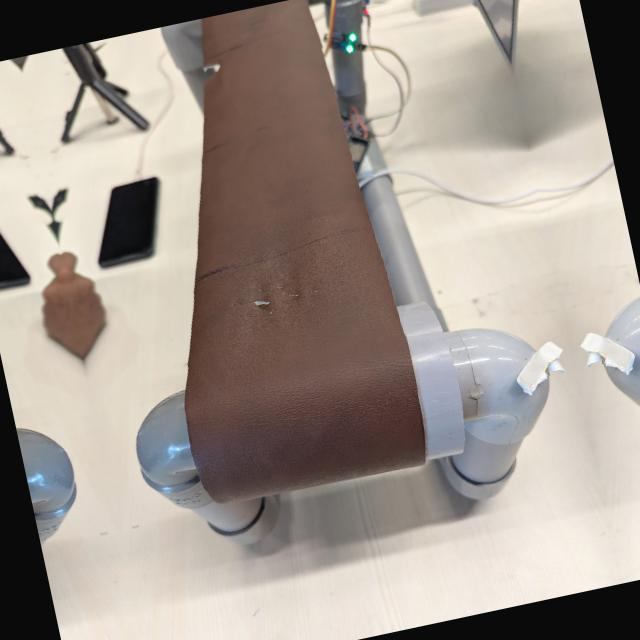belt_crack: (209, 262, 328, 345)
belt_tear: (199, 58, 221, 82)
